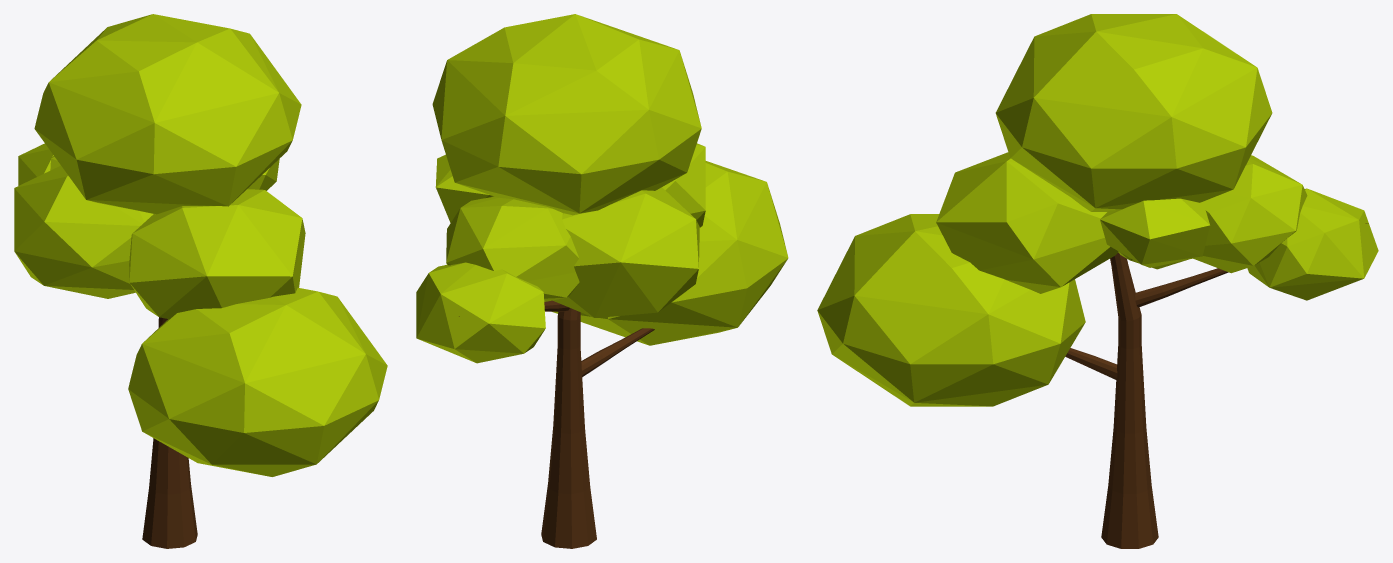
Rendered from Maple_Tree_Tall_001.fbx.
The picture shows the model from 3 angles, left to right: view 1: azimuth 30°, elevation 25°; view 2: azimuth 150°, elevation 25°; view 3: azimuth 270°, elevation 25°; orthographic projection.
Parts seen in each view (by area): view 1: Maple Tree Tall.001; view 2: Maple Tree Tall.001; view 3: Maple Tree Tall.001.
Part boxes in pixels (x1=…): Maple Tree Tall.001: x1=14, y1=14, x2=387, y2=548; Maple Tree Tall.001: x1=416, y1=14, x2=788, y2=548; Maple Tree Tall.001: x1=817, y1=14, x2=1378, y2=548.
Size of the model in its own units: 222 by 406 by 404.
